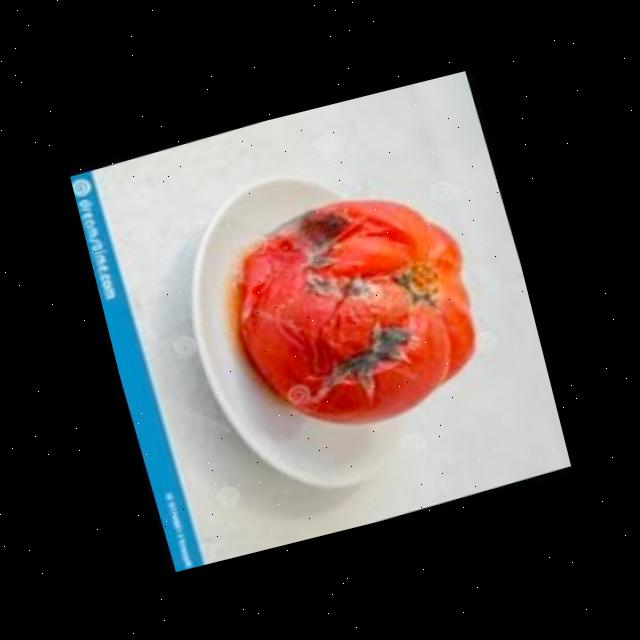tomato: (206, 164, 507, 454)
